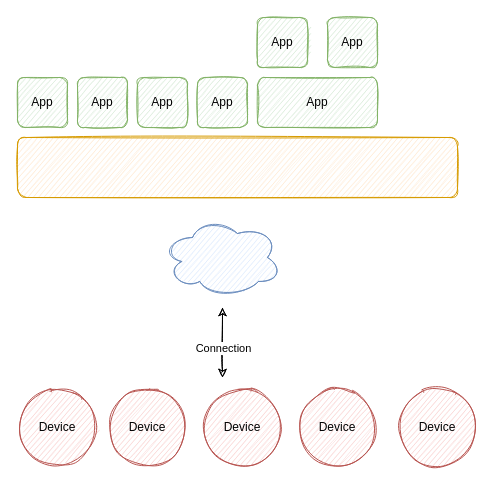
This 495x485 diagram has some shape labels left out. Here are the shapes that lost their labels. From the top down, the centre of each, then its label:
pixel 237 167: Platform
pixel 222 257: Internet
